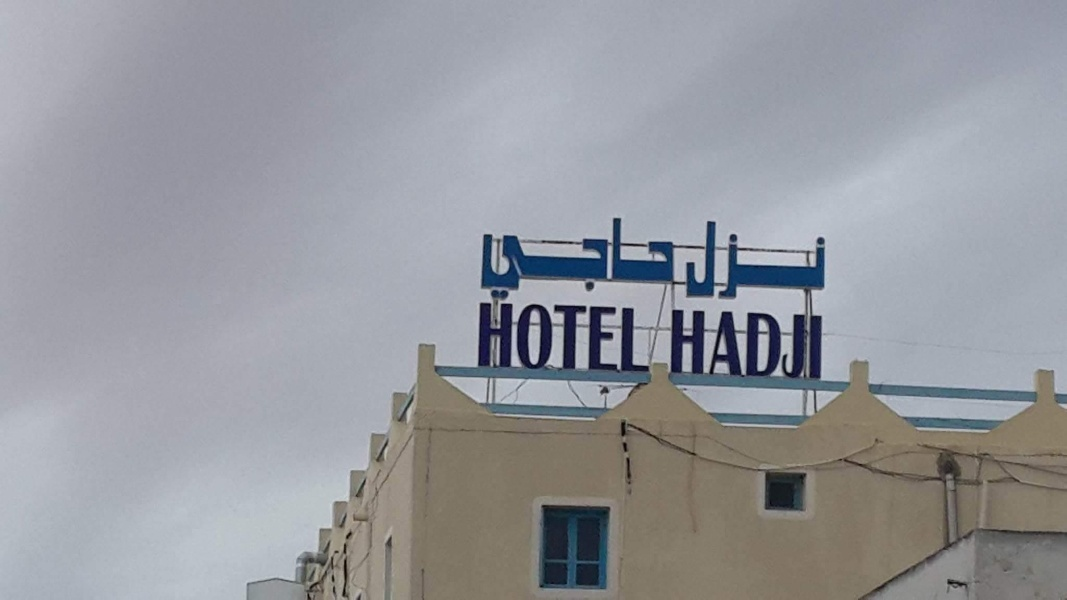text: (497, 212, 512, 306), (513, 212, 528, 306), (529, 212, 544, 306), (545, 212, 560, 306), (561, 212, 576, 306), (577, 212, 592, 306), (593, 212, 608, 306), (609, 212, 624, 306), (625, 212, 640, 306), (641, 212, 656, 306), (657, 212, 672, 306), (689, 219, 704, 305), (705, 219, 720, 305), (721, 219, 736, 305), (737, 219, 752, 305), (753, 219, 768, 305), (769, 219, 784, 305), (785, 219, 800, 305), (801, 219, 816, 305), (483, 212, 496, 306), (673, 308, 688, 381), (689, 308, 704, 381), (705, 308, 720, 381), (721, 308, 736, 381), (737, 308, 752, 381), (753, 308, 768, 381), (769, 308, 784, 381), (785, 308, 800, 381), (801, 308, 816, 381), (481, 301, 496, 373), (497, 301, 512, 373), (513, 301, 528, 373), (529, 301, 544, 373), (545, 301, 560, 373), (561, 301, 576, 373), (577, 301, 592, 373), (593, 301, 608, 373), (609, 301, 624, 373), (625, 301, 640, 373), (817, 219, 828, 305), (641, 301, 652, 373), (817, 308, 825, 381), (673, 212, 677, 306), (686, 219, 688, 305), (478, 301, 480, 373), (671, 308, 672, 381)
